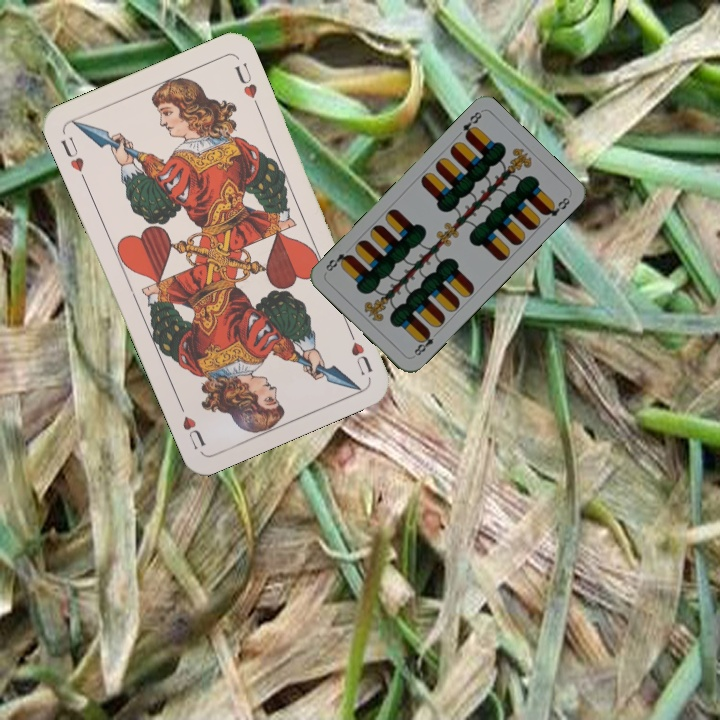E8: (409, 327, 441, 360), (458, 107, 484, 142)
HU: (343, 323, 375, 378), (56, 132, 89, 185)
